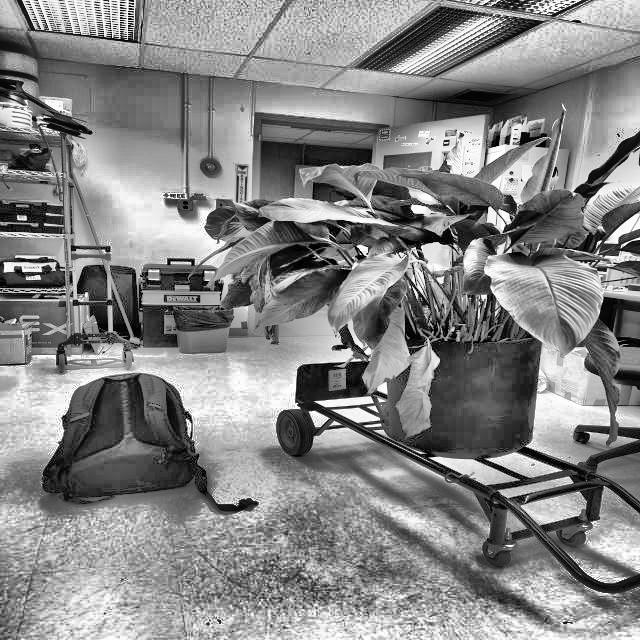plants: (232, 136, 636, 344)
